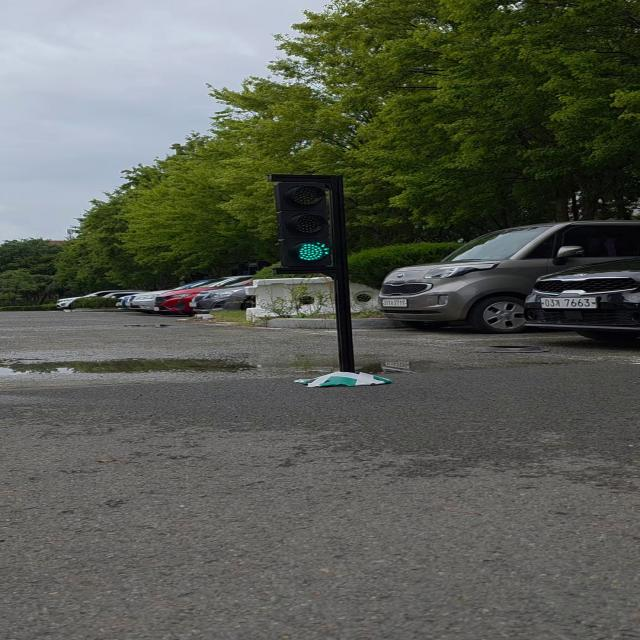green: (274, 175, 338, 269)
